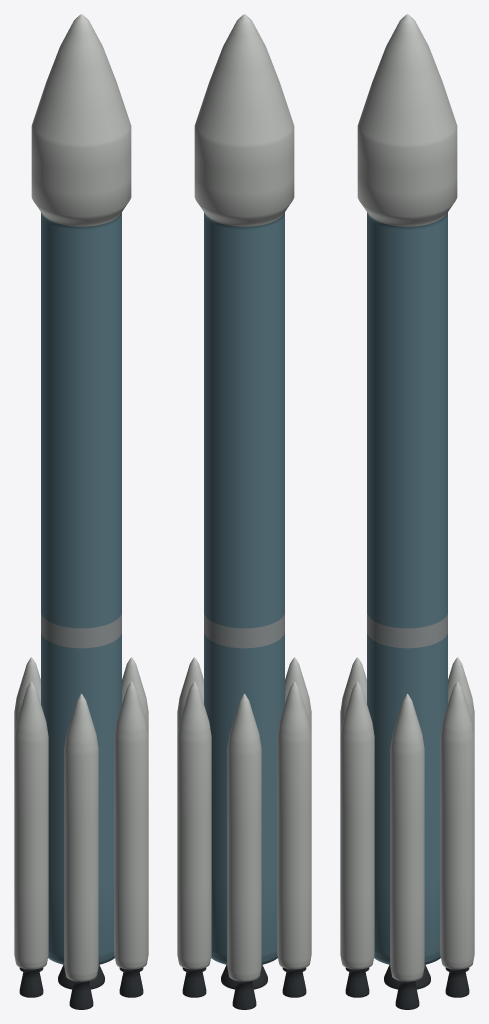
Rendered from A-NEW-20261027-SPACE_ROCKET-001_LOD0_R1.fbx.
3 renders of one model, left to right at view 1: azimuth 90°, elevation 25°; view 2: azimuth 150°, elevation 25°; view 3: azimuth 270°, elevation 25°, orthographic.
Parts seen in each view (by area): view 1: original launch rocket core and fairing, original static external booster 3, original static external booster 2, original static external booster 4, original static external booster 1, original static external booster 5; view 2: original launch rocket core and fairing, original static external booster 2, original static external booster 1, original static external booster 3, original static external booster 0, original static external booster 4; view 3: original launch rocket core and fairing, original static external booster 0, original static external booster 1, original static external booster 5, original static external booster 2, original static external booster 4.
Boxes of the visible parts, bbox=[...] form: original launch rocket core and fairing: bbox=[31, 14, 131, 989]; original static external booster 3: bbox=[64, 694, 98, 1009]; original static external booster 2: bbox=[14, 682, 48, 997]; original static external booster 4: bbox=[114, 682, 148, 997]; original static external booster 1: bbox=[14, 657, 43, 971]; original static external booster 5: bbox=[119, 657, 148, 971]; original launch rocket core and fairing: bbox=[194, 14, 294, 989]; original static external booster 2: bbox=[227, 694, 261, 1009]; original static external booster 1: bbox=[177, 682, 211, 997]; original static external booster 3: bbox=[277, 682, 311, 997]; original static external booster 0: bbox=[177, 657, 206, 971]; original static external booster 4: bbox=[282, 657, 311, 971]; original launch rocket core and fairing: bbox=[357, 14, 457, 989]; original static external booster 0: bbox=[390, 694, 424, 1009]; original static external booster 1: bbox=[440, 682, 474, 997]; original static external booster 5: bbox=[340, 682, 374, 997]; original static external booster 2: bbox=[445, 657, 474, 971]; original static external booster 4: bbox=[340, 657, 369, 971].
Size of the model in its own units: 48 by 342 by 43.04.
